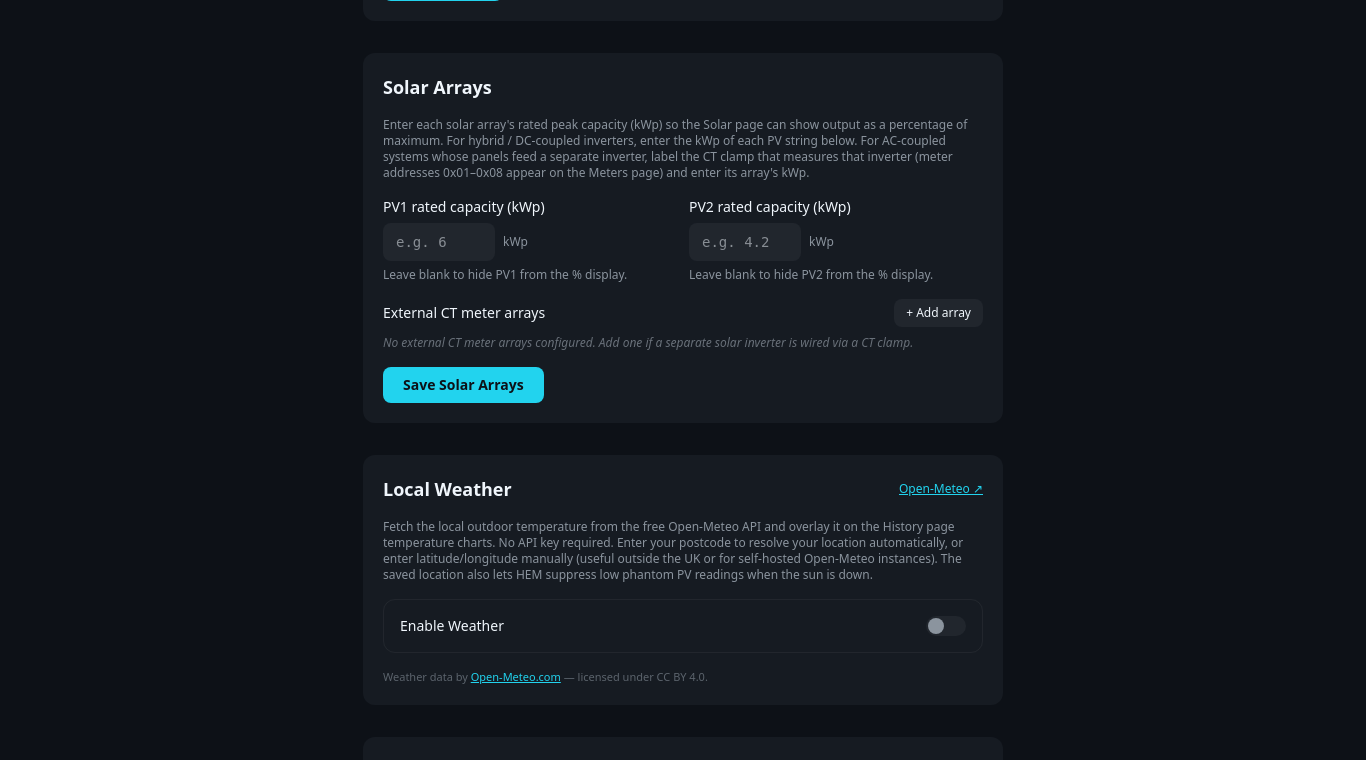
it: <SettingsPage/> — save handlers & validation › solar arrays save (issue #110) › flashes an error when the save fails
The image size is (1366, 760).
(page scrolled)
Click the button with test id "solar-arrays-save": {"x": 463, "y": 385} left=383, top=367, right=544, bottom=403
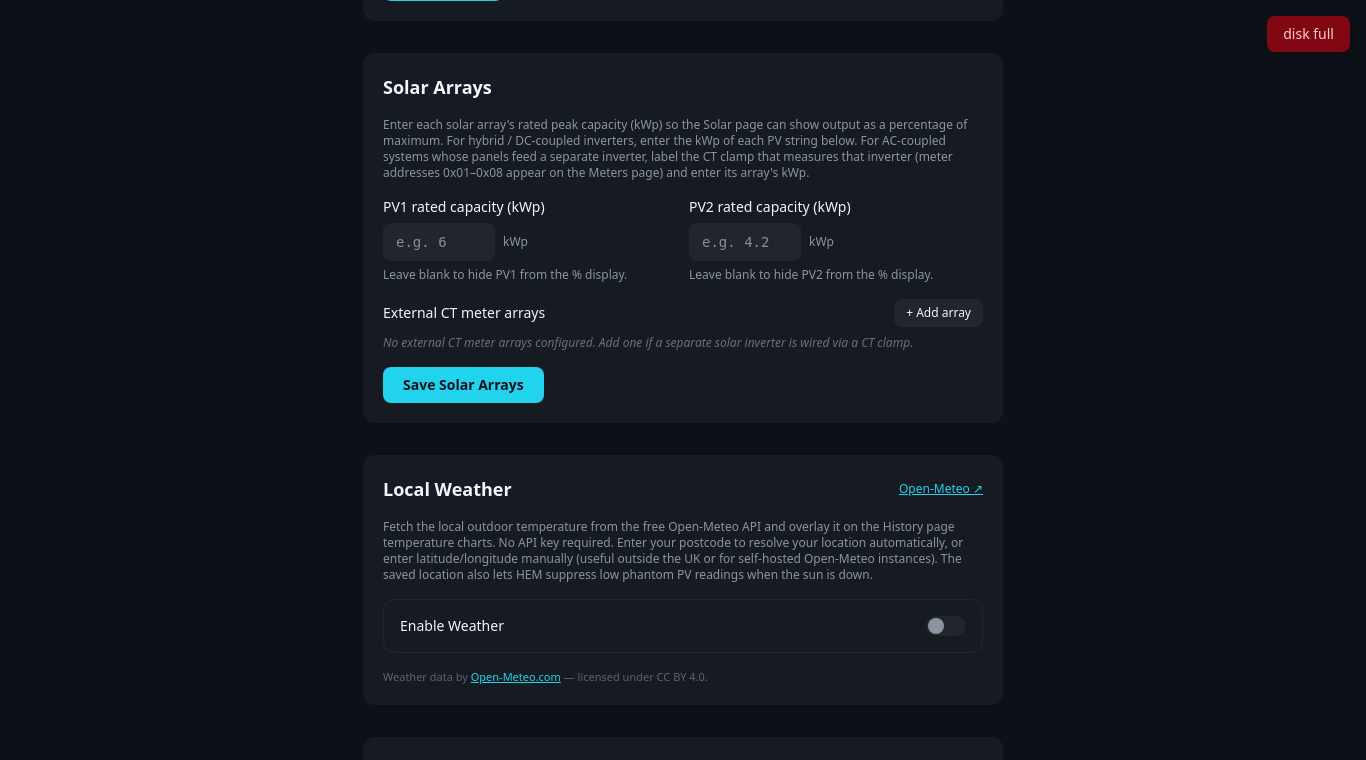
Expected: the text "disk full" is shown, left=1267, top=16, right=1350, bottom=52
